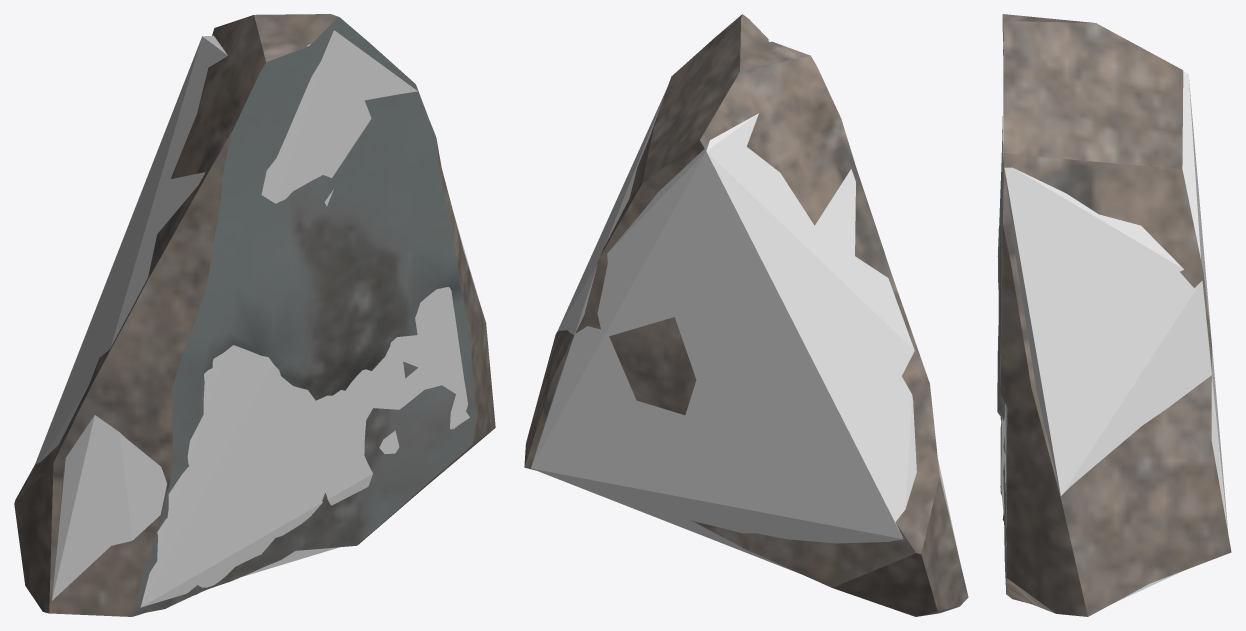
Rendered from SM_Rock_52.fbx.
3 views of the same model, side by side, from view 1: azimuth 30°, elevation 25°; view 2: azimuth 150°, elevation 25°; view 3: azimuth 270°, elevation 25° (orthographic). The views are drawn at different scales.
Visible parts, largest first — view 1: SM_Rock_52_LOD0, SM_Rock_52_ConvexHulls; view 2: SM_Rock_52_ConvexHulls, SM_Rock_52_LOD0; view 3: SM_Rock_52_LOD0, SM_Rock_52_ConvexHulls.
Part boxes in pixels (bbox=[...]): SM_Rock_52_LOD0: bbox=[14, 14, 495, 616]; SM_Rock_52_ConvexHulls: bbox=[35, 30, 476, 607]; SM_Rock_52_ConvexHulls: bbox=[531, 39, 958, 573]; SM_Rock_52_LOD0: bbox=[524, 14, 968, 616]; SM_Rock_52_LOD0: bbox=[997, 14, 1231, 616]; SM_Rock_52_ConvexHulls: bbox=[1001, 41, 1228, 603].
Size of the model in its own units: 46.06 by 19.39 by 53.3.
